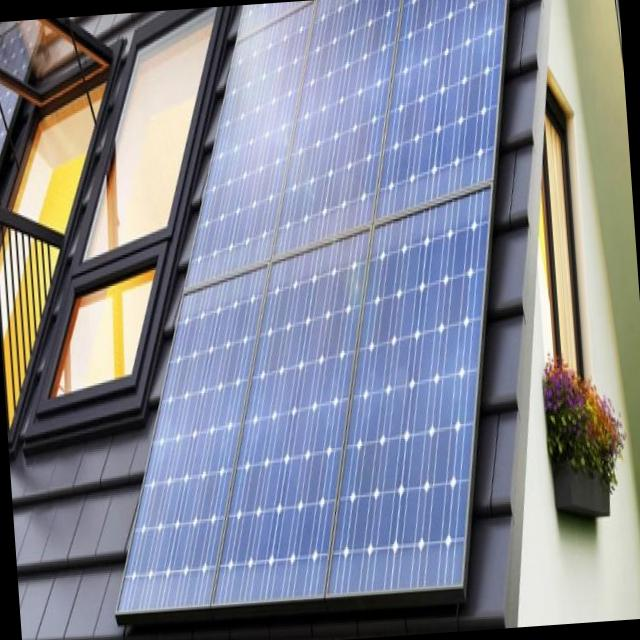no faulty: (133, 0, 514, 605)
